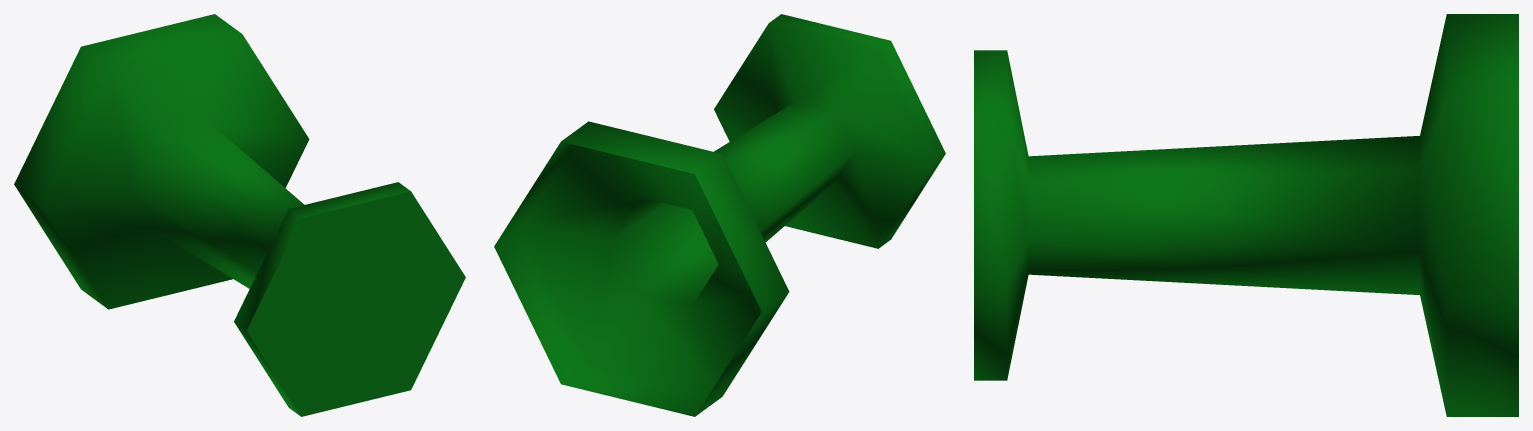
File: Pushpin_Green.fbx
3 renders of one model, left to right at view 1: azimuth 30°, elevation 25°; view 2: azimuth 150°, elevation 25°; view 3: azimuth 270°, elevation 25°, orthographic. The views are drawn at different scales.
Parts seen in each view (by area): view 1: Pushpin_Green; view 2: Pushpin_Green; view 3: Pushpin_Green.
Part boxes in pixels (<box>): Pushpin_Green: <box>14,14,465,416</box>; Pushpin_Green: <box>494,14,945,416</box>; Pushpin_Green: <box>974,14,1518,416</box>.
Size of the model in its own units: 0.9 by 0.7794 by 1.21.
